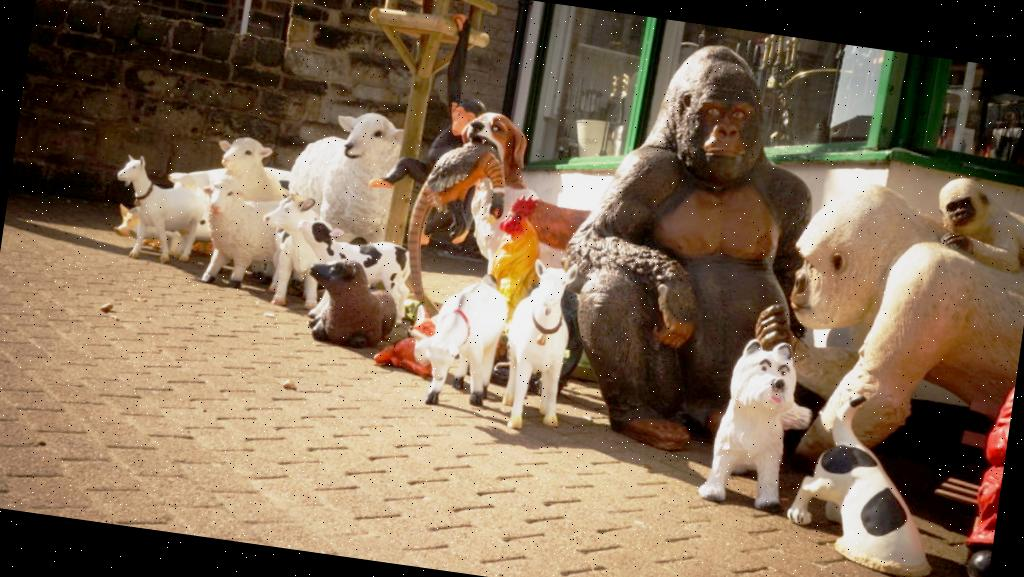Sheep: (276, 101, 412, 250), (176, 146, 283, 292), (213, 137, 292, 207)
